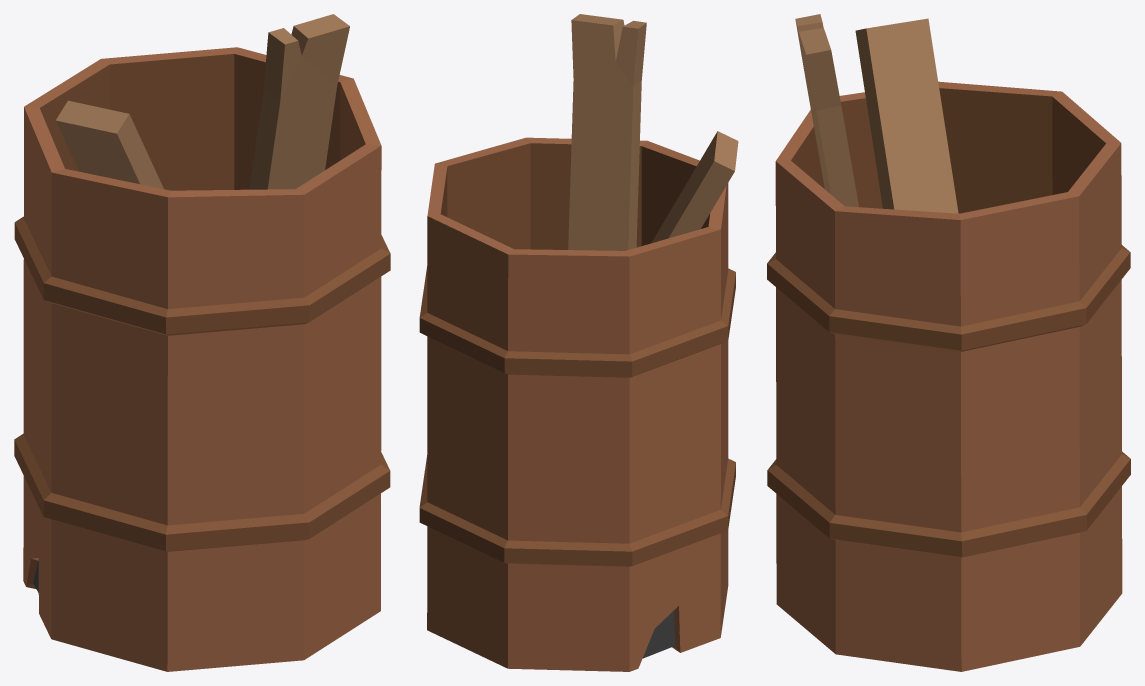
The model's file is Barrel.obj.
3 views of the same model, side by side, from view 1: azimuth 30°, elevation 25°; view 2: azimuth 150°, elevation 25°; view 3: azimuth 270°, elevation 25° (orthographic). The views are drawn at different scales.
Size of the model in its own units: 0.5073 by 0.9 by 0.5078.
1 material, 1 textured.
